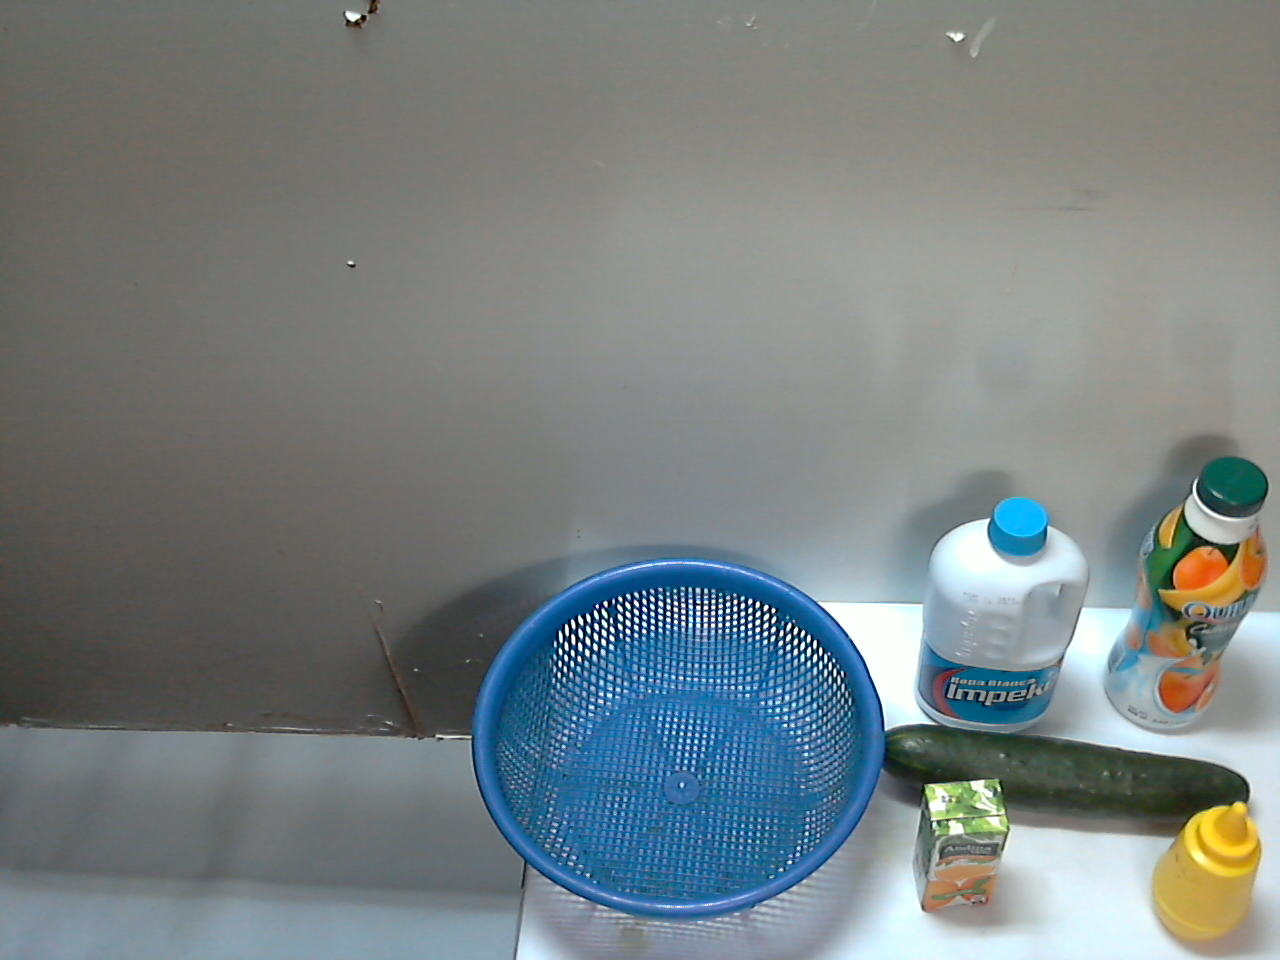cloro: (731, 538, 898, 787)
esponja: (496, 800, 639, 920)
leche: (957, 564, 1155, 806)
limon: (696, 806, 844, 935)
mostaza: (867, 748, 984, 925)
te: (520, 625, 686, 770)
